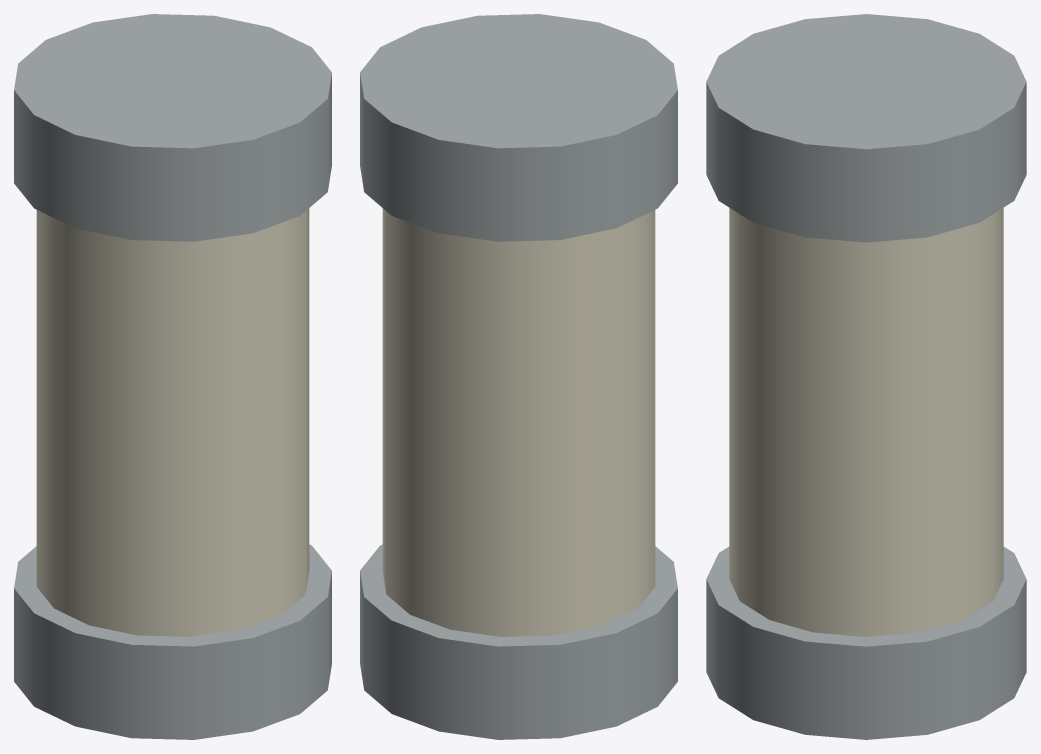
File: ceramic-fuse.glb
The picture shows the model from 3 angles, left to right: view 1: azimuth 30°, elevation 25°; view 2: azimuth 150°, elevation 25°; view 3: azimuth 270°, elevation 25°; orthographic projection.
Visible parts, largest first — view 1: ceramic-fuse; view 2: ceramic-fuse; view 3: ceramic-fuse.
Boxes of the visible parts, x1,y1,x2,y2 form: ceramic-fuse: (14, 14, 331, 739); ceramic-fuse: (360, 14, 677, 739); ceramic-fuse: (706, 14, 1026, 739).
Bounding box in the file's own units: 0.028 × 0.057 × 0.028.
